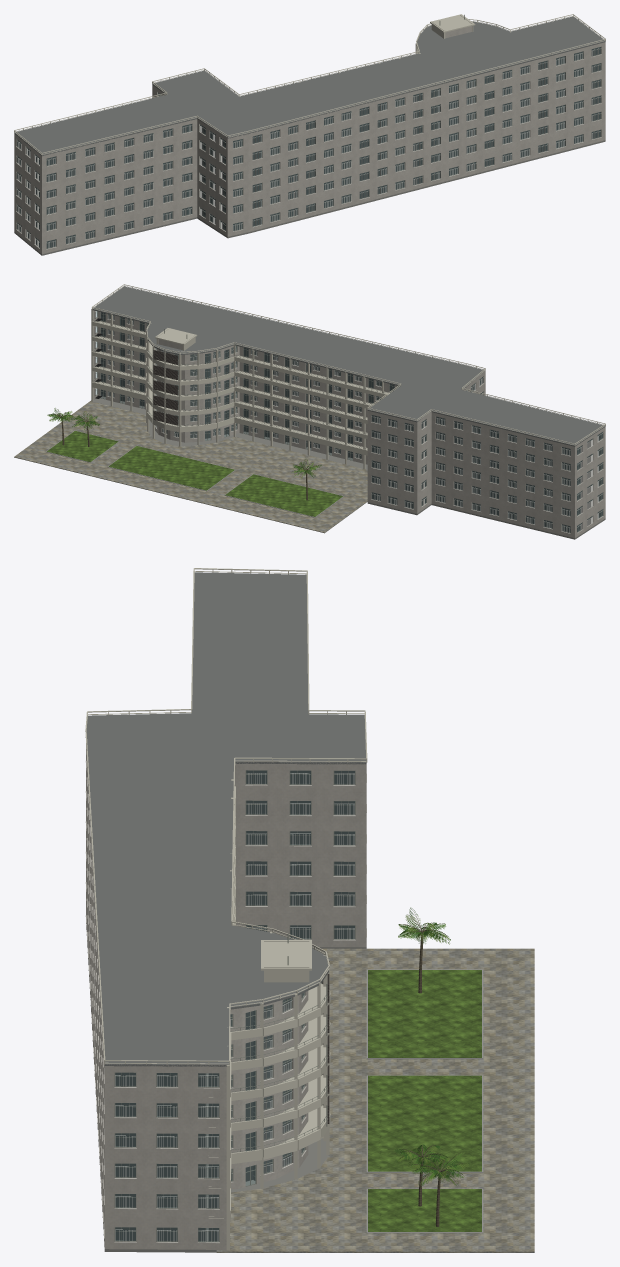
Rendered from science.glb.
3 views of the same model, one above another, from view 1: azimuth 30°, elevation 25°; view 2: azimuth 150°, elevation 25°; view 3: azimuth 270°, elevation 25° (orthographic). The views are drawn at different scales.
Parts seen in each view (by area): view 1: science.return_elevations, science.mapped_roof, science.shaded_landings; view 2: science.mapped_roof, science.science_court, science.return_elevations, science.north_gallery, science.gallery_back, science.shaded_landings; view 3: science.mapped_roof, science.science_court, science.return_elevations, science.north_gallery, science.gallery_back, science.shaded_landings.
Boxes of the visible parts, x1=… form: science.return_elevations: x1=14, y1=42, x2=605, y2=254; science.mapped_roof: x1=14, y1=14, x2=605, y2=255; science.shaded_landings: x1=430, y1=14, x2=475, y2=38; science.mapped_roof: x1=92, y1=284, x2=605, y2=539; science.science_court: x1=14, y1=400, x2=367, y2=533; science.return_elevations: x1=93, y1=310, x2=605, y2=538; science.north_gallery: x1=91, y1=308, x2=389, y2=469; science.gallery_back: x1=97, y1=311, x2=396, y2=464; science.shaded_landings: x1=153, y1=328, x2=197, y2=426; science.mapped_roof: x1=85, y1=568, x2=367, y2=1252; science.science_court: x1=216, y1=907, x2=534, y2=1252; science.return_elevations: x1=86, y1=744, x2=366, y2=1249; science.north_gallery: x1=209, y1=779, x2=330, y2=1250; science.gallery_back: x1=206, y1=991, x2=308, y2=1240; science.shaded_landings: x1=261, y1=934, x2=329, y2=1126.
Bounding box in the file's own units: 121 × 24.1 × 46.32.
19 materials, 3 textured.
